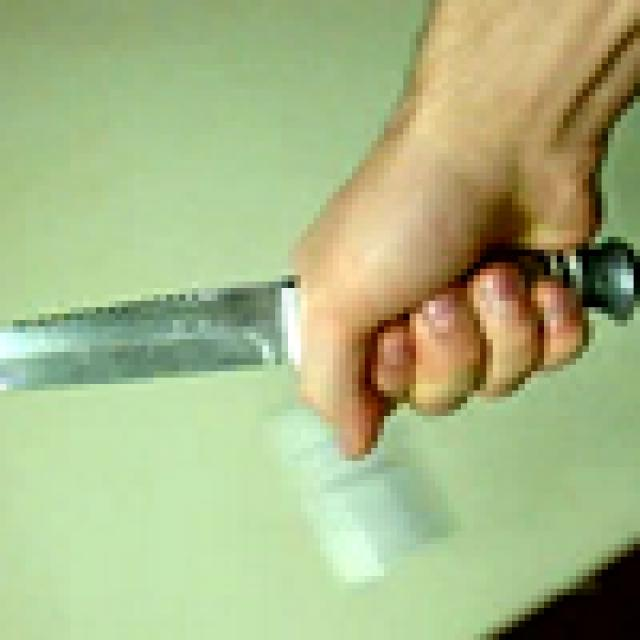Knife: (0, 230, 640, 436)
